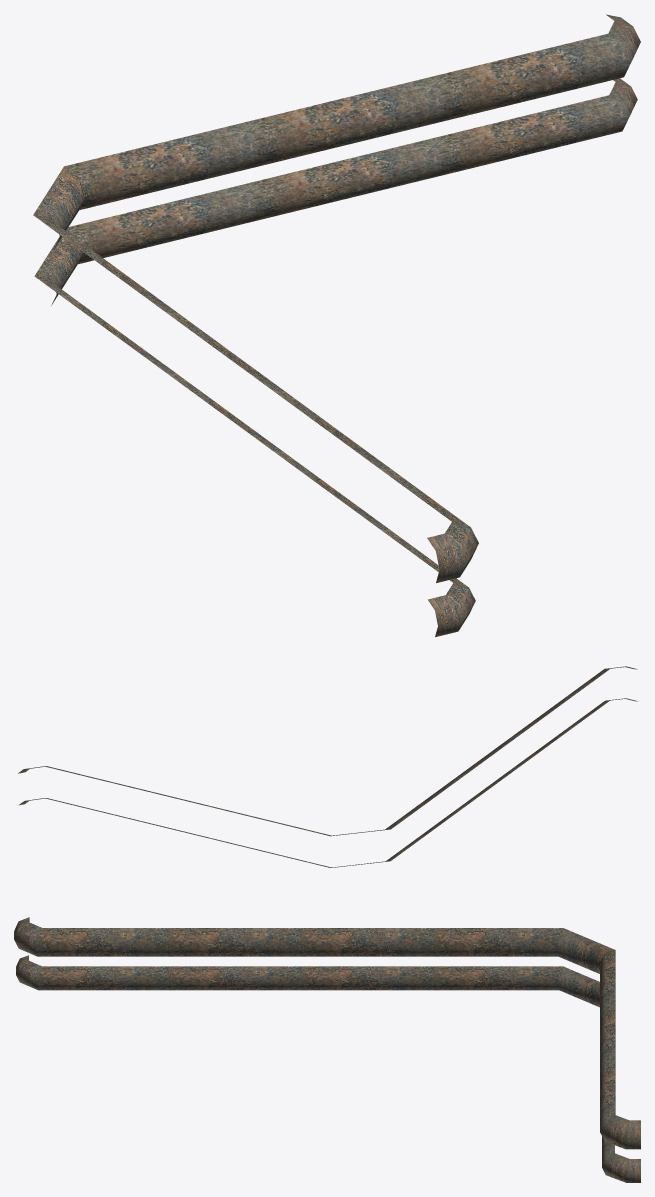
The model's file is M11Z2_SCUDHouse_Pipes_B.glb.
The picture shows the model from 3 angles, top to bottom: view 1: azimuth 30°, elevation 25°; view 2: azimuth 150°, elevation 25°; view 3: azimuth 270°, elevation 25°; orthographic projection. The views are drawn at different scales.
Parts seen in each view (by area): view 1: M11Z2_SCUDHOUSE_PIPES_B; view 2: M11Z2_SCUDHOUSE_PIPES_B; view 3: M11Z2_SCUDHOUSE_PIPES_B.
Part boxes in pixels (box(x1,y1,x2,y2)): M11Z2_SCUDHOUSE_PIPES_B: box(33, 14, 640, 637); M11Z2_SCUDHOUSE_PIPES_B: box(18, 666, 637, 867); M11Z2_SCUDHOUSE_PIPES_B: box(14, 917, 640, 1182).
Bounding box in the file's own units: 4.77 × 0.653 × 6.02.
1 material, 1 textured.
